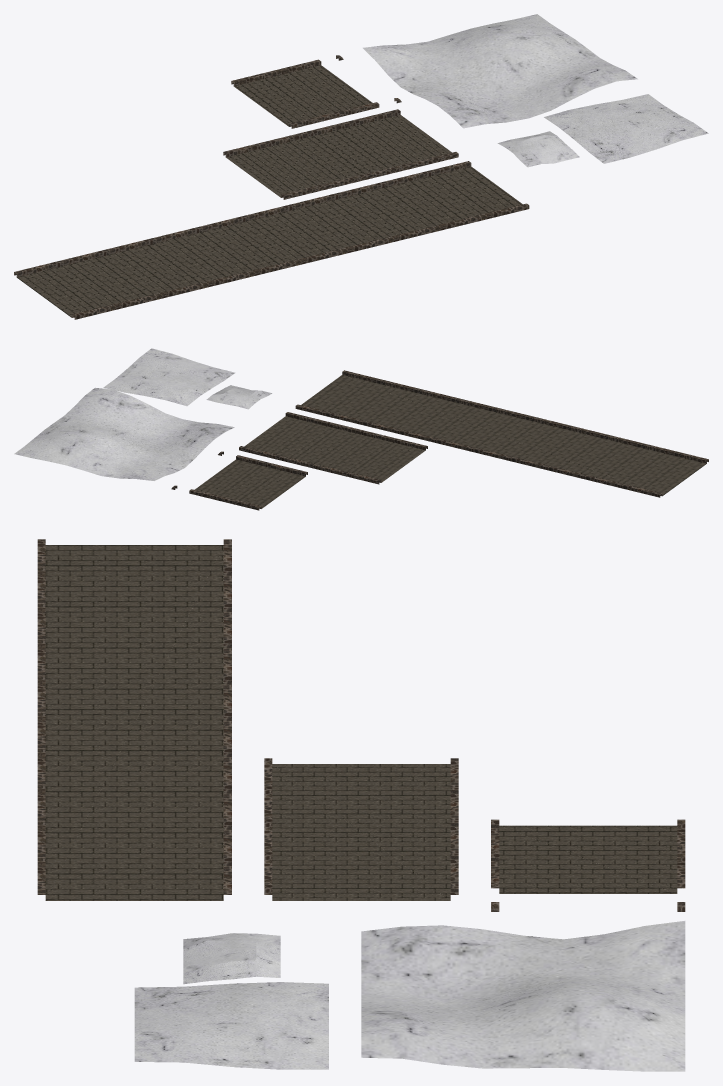
Rendered from zoo_townExterior_REF.obj.
The picture shows the model from 3 angles, top to bottom: view 1: azimuth 30°, elevation 25°; view 2: azimuth 150°, elevation 25°; view 3: azimuth 270°, elevation 25°; orthographic projection. The views are drawn at different scales.
Visible parts, largest first — view 1: Plane.002, Plane.003, Plane.001, Snow, Plane, Plane.005; view 2: Plane.002, Plane.003, Plane.001, Snow, Plane, Plane.005; view 3: Plane.002, Plane.003, Plane.001, Snow, Plane, Plane.005.
Boxes of the visible parts, x1,y1,x2,y2 form: Plane.002: (14,161,529,319); Plane.003: (363,14,637,128); Plane.001: (223,109,458,199); Snow: (544,94,708,163); Plane: (231,59,379,128); Plane.005: (497,131,579,167); Plane.002: (295,370,708,497); Plane.003: (14,387,234,480); Plane.001: (239,412,427,484); Snow: (103,348,235,406); Plane: (189,455,307,510); Plane.005: (206,385,272,409); Plane.002: (37,539,231,900); Plane.003: (361,921,685,1071); Plane.001: (264,758,458,900); Snow: (134,982,328,1069); Plane: (491,819,685,893); Plane.005: (183,933,280,984).
Size of the model in its own units: 38 by 1.27 by 20.
